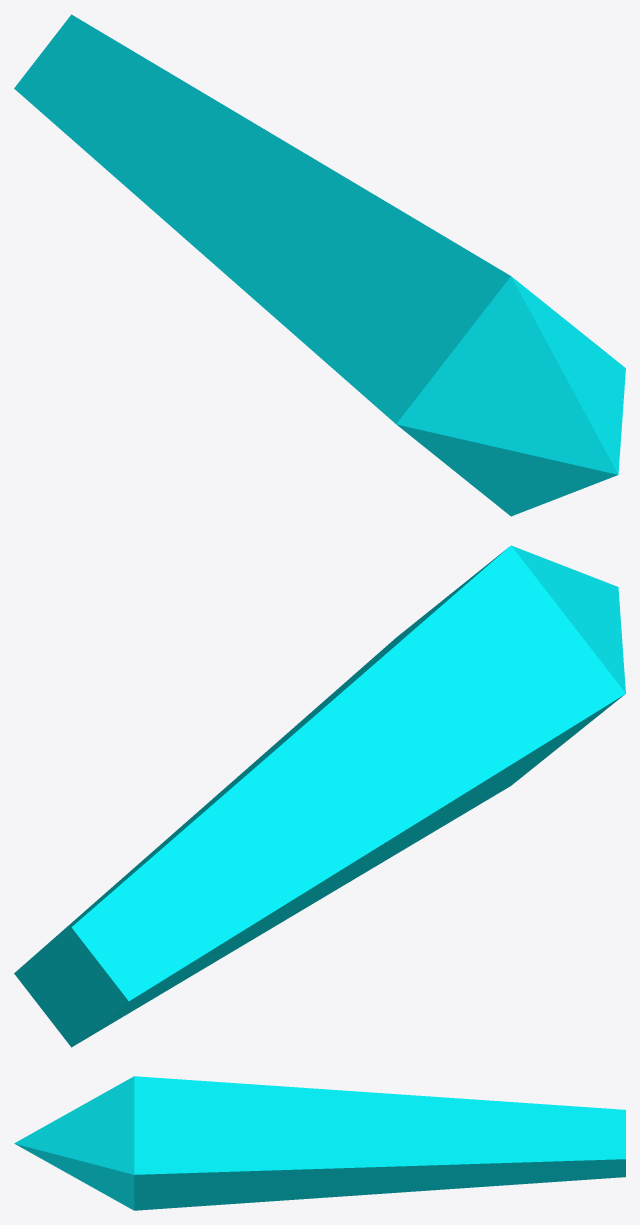
Rendered from bullet_blue.FBX.
3 views of the same model, one above another, from view 1: azimuth 30°, elevation 25°; view 2: azimuth 150°, elevation 25°; view 3: azimuth 270°, elevation 25° (orthographic). The views are drawn at different scales.
Parts seen in each view (by area): view 1: bullet_blue; view 2: bullet_blue; view 3: bullet_blue.
Boxes of the visible parts, box(x1,y1,x2,y2) form: bullet_blue: box(14, 14, 625, 516); bullet_blue: box(14, 545, 625, 1047); bullet_blue: box(14, 1076, 625, 1210).
Size of the model in its own units: 213 by 213 by 878.
